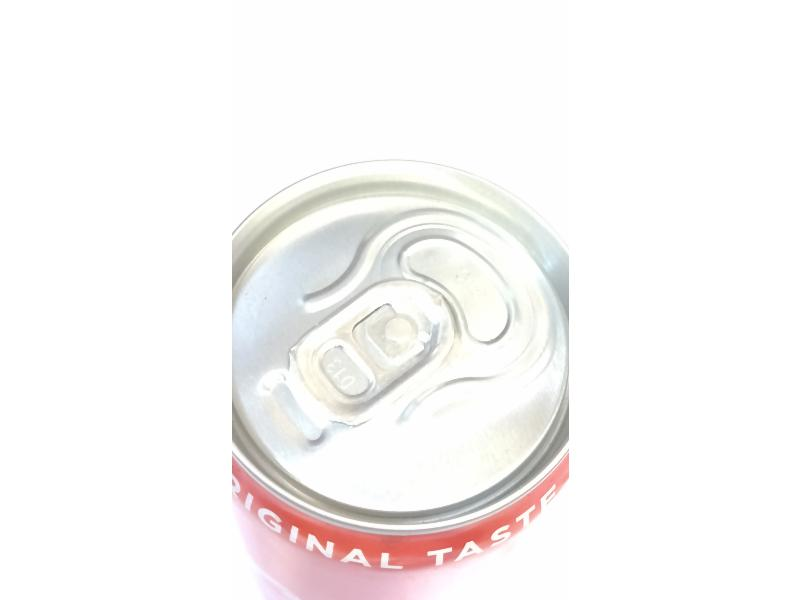can: (232, 151, 574, 590)
